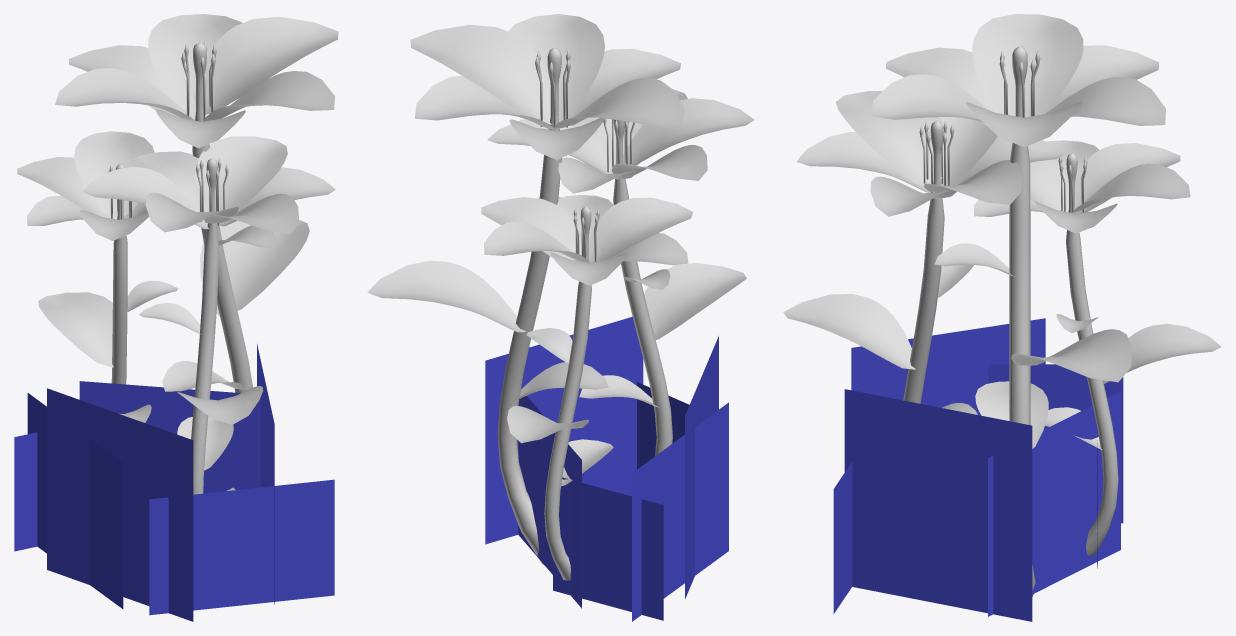
The model's file is Mesh_DistractionPlant.fbx.
The picture shows the model from 3 angles, left to right: view 1: azimuth 30°, elevation 25°; view 2: azimuth 150°, elevation 25°; view 3: azimuth 270°, elevation 25°; orthographic projection. The views are drawn at different scales.
Parts seen in each view (by area): view 1: DistractionPlant; view 2: DistractionPlant; view 3: DistractionPlant.
Boxes of the visible parts, left/top/right/bottom form: DistractionPlant: left=14, top=14, right=338, bottom=621; DistractionPlant: left=367, top=14, right=754, bottom=621; DistractionPlant: left=783, top=14, right=1221, bottom=621.
Size of the model in its own units: 16.14 by 26.92 by 19.37.
